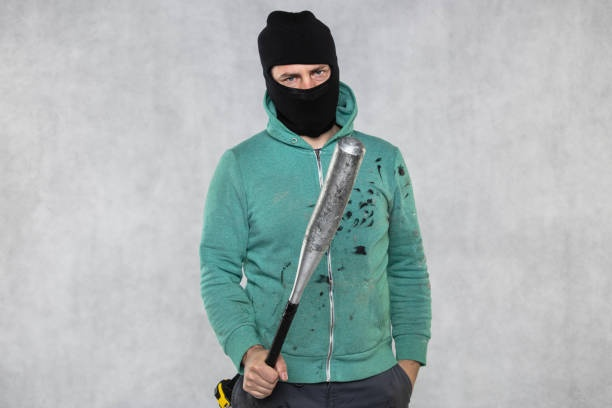bita: (256, 134, 371, 380)
